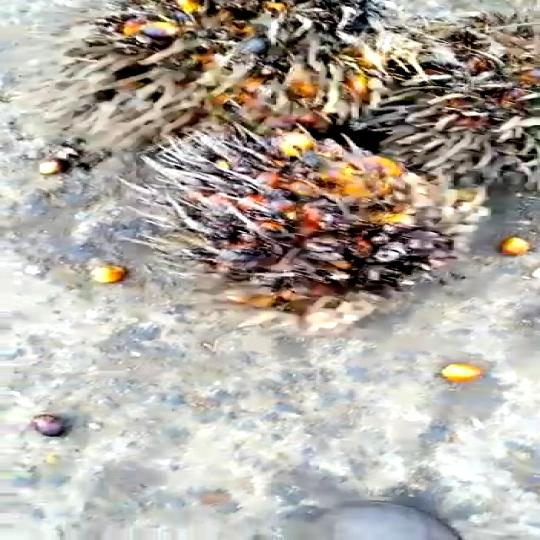terlalu masak: (82, 114, 476, 326)
